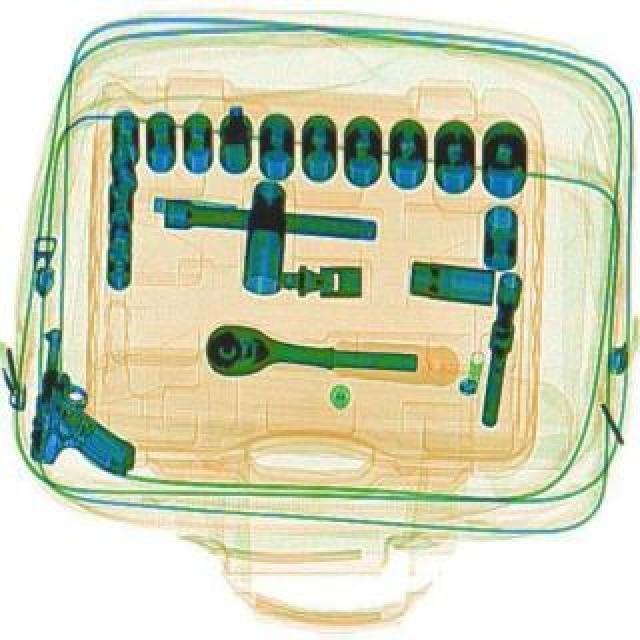gun: (26, 324, 148, 476)
